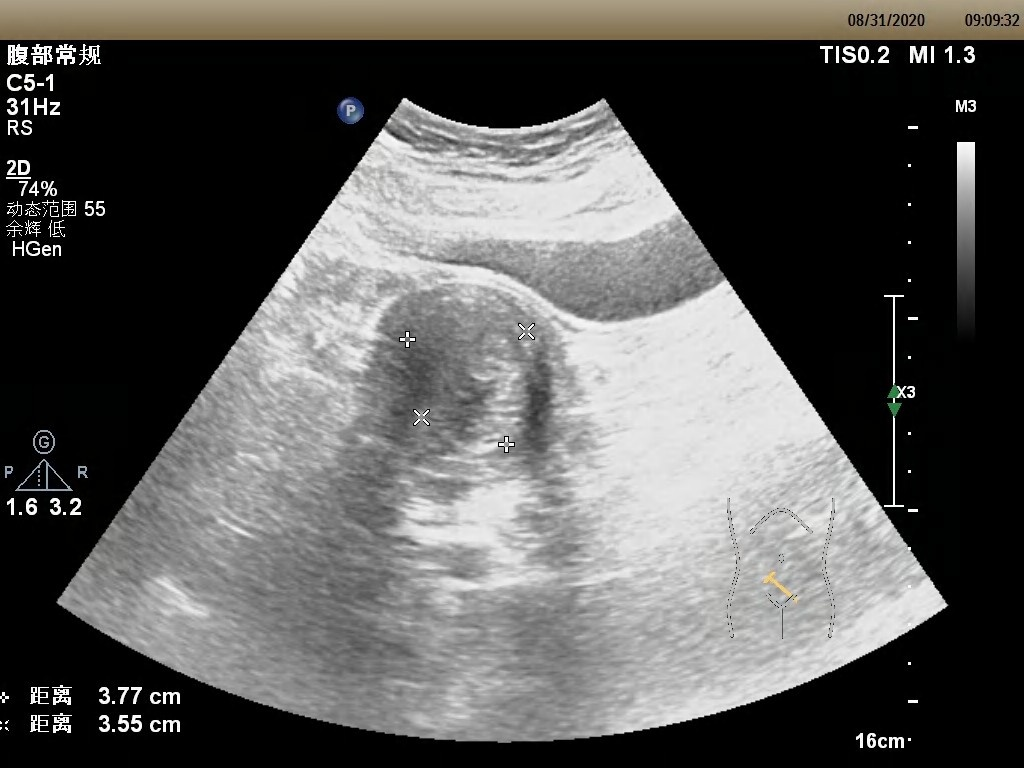肌瘤: (412, 333, 518, 439)
